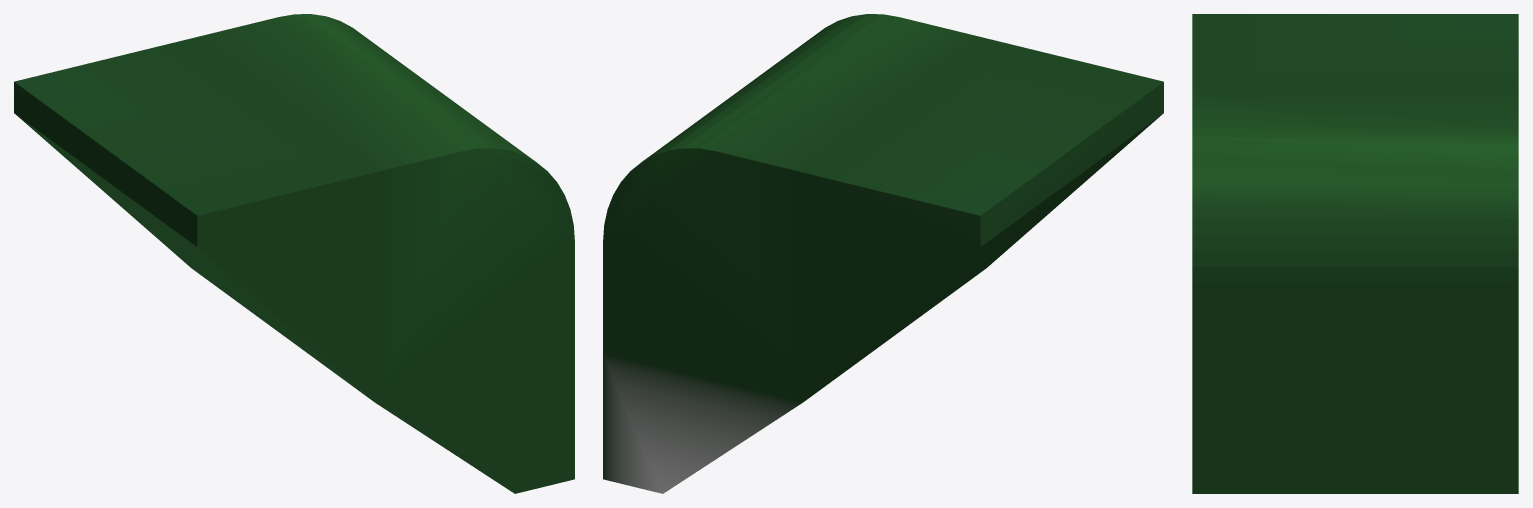
Rendered from Finish_point.fbx.
3 views of the same model, side by side, from view 1: azimuth 30°, elevation 25°; view 2: azimuth 150°, elevation 25°; view 3: azimuth 270°, elevation 25° (orthographic). The views are drawn at different scales.
Visible parts, largest first — view 1: Cube.005; view 2: Cube.005; view 3: Cube.005.
Part boxes in pixels (box(x1,y1,x2,y2)): Cube.005: box(14, 14, 574, 493); Cube.005: box(603, 14, 1163, 493); Cube.005: box(1192, 14, 1518, 493).
Bounding box in the file's own units: 119 × 107 × 100.
